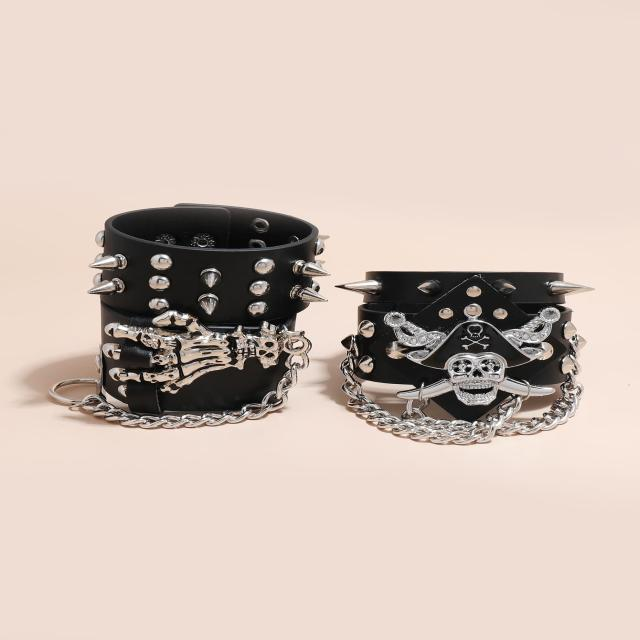bracelet: (24, 138, 340, 480), (318, 189, 640, 490)
